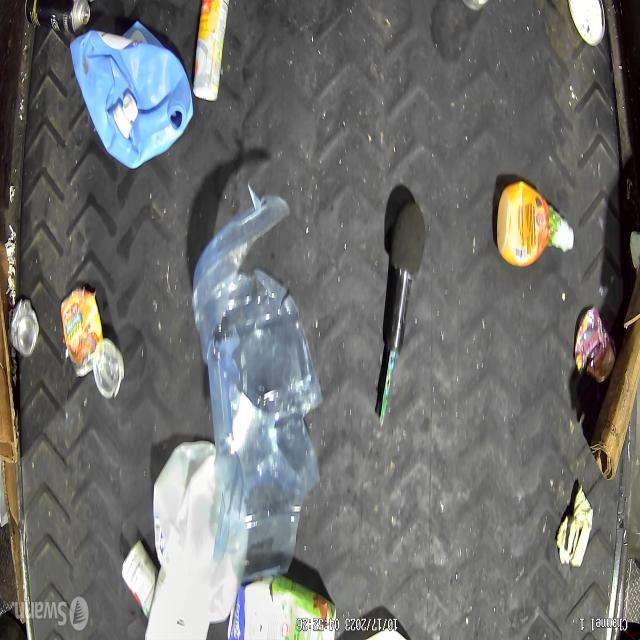can: (59, 286, 104, 378), (24, 0, 91, 36)
milk_jug: (154, 444, 242, 629)
non_white_jug: (70, 20, 196, 171), (226, 574, 336, 640)
